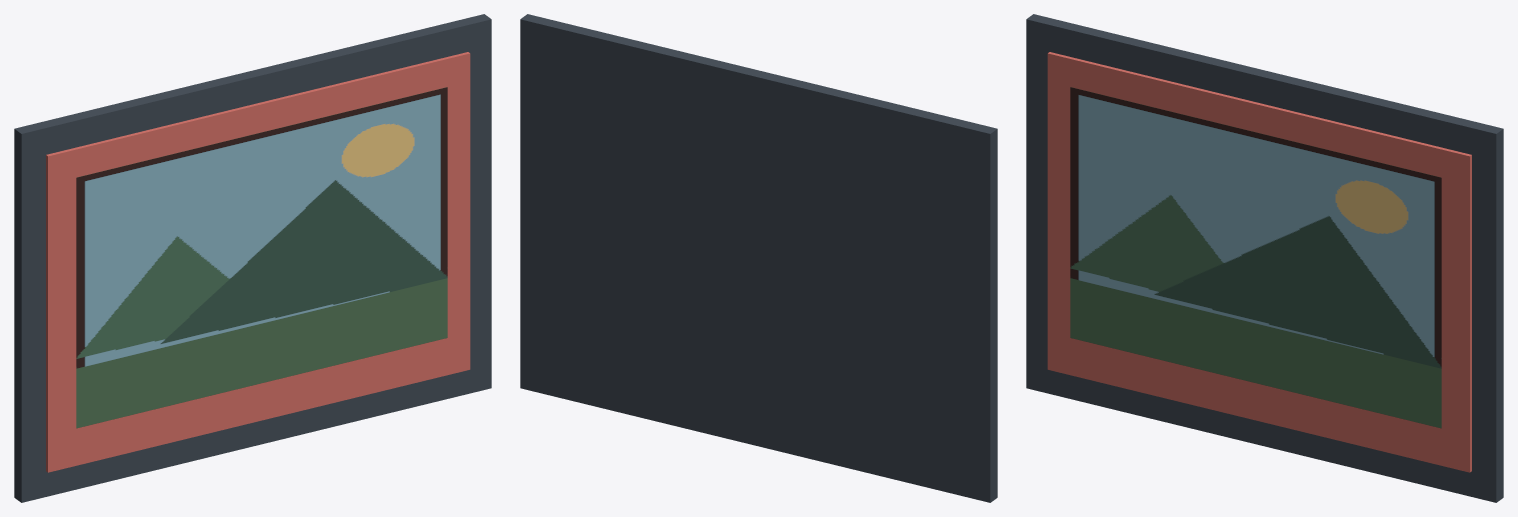
Rendered from picture.glb.
3 views of the same model, side by side, from view 1: azimuth 30°, elevation 25°; view 2: azimuth 150°, elevation 25°; view 3: azimuth 330°, elevation 25° (orthographic).
Bounding box in the file's own units: 0.784 × 0.588 × 0.0368.
2 materials, 2 textured.
